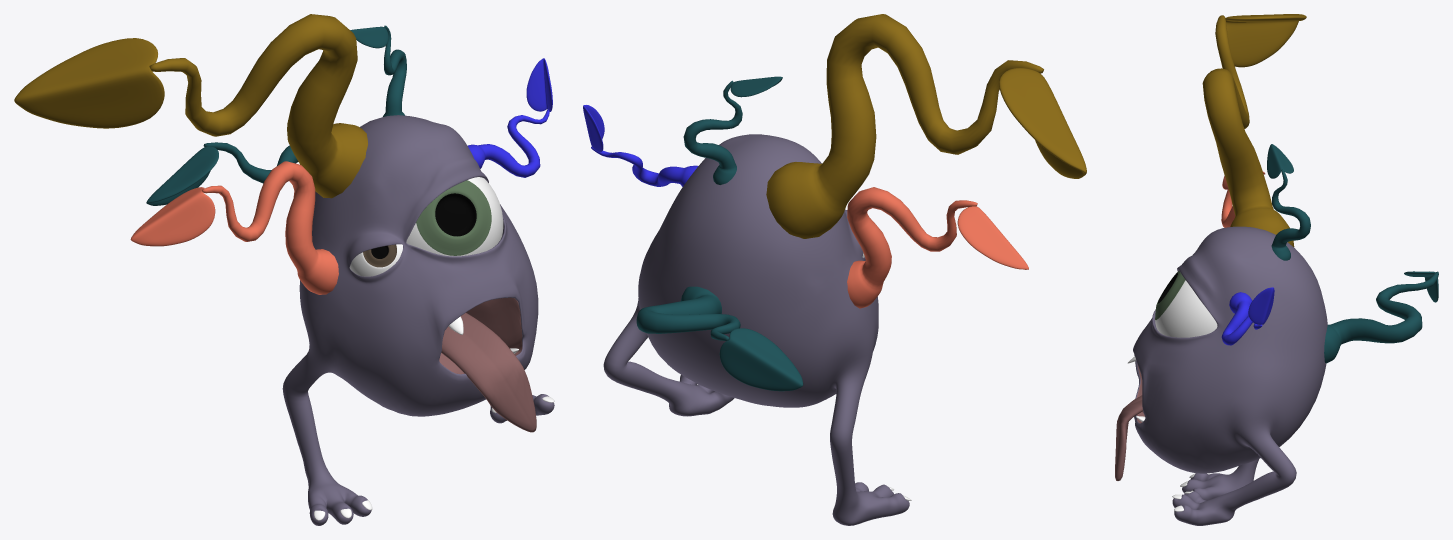
File: Bean_Monster_Instancing_V1.glb
The picture shows the model from 3 angles, left to right: view 1: azimuth 30°, elevation 25°; view 2: azimuth 150°, elevation 25°; view 3: azimuth 270°, elevation 25°; orthographic projection. The views are drawn at different scales.
Visible parts, largest first — view 1: Instance Child on Parent; view 2: Instance Child on Parent; view 3: Instance Child on Parent.
Part boxes in pixels (x1,y1,x2,y2): Instance Child on Parent: (14, 14, 554, 525); Instance Child on Parent: (583, 14, 1086, 525); Instance Child on Parent: (1115, 14, 1438, 525).
Size of the model in its own units: 75.27 by 69.8 by 48.87.
